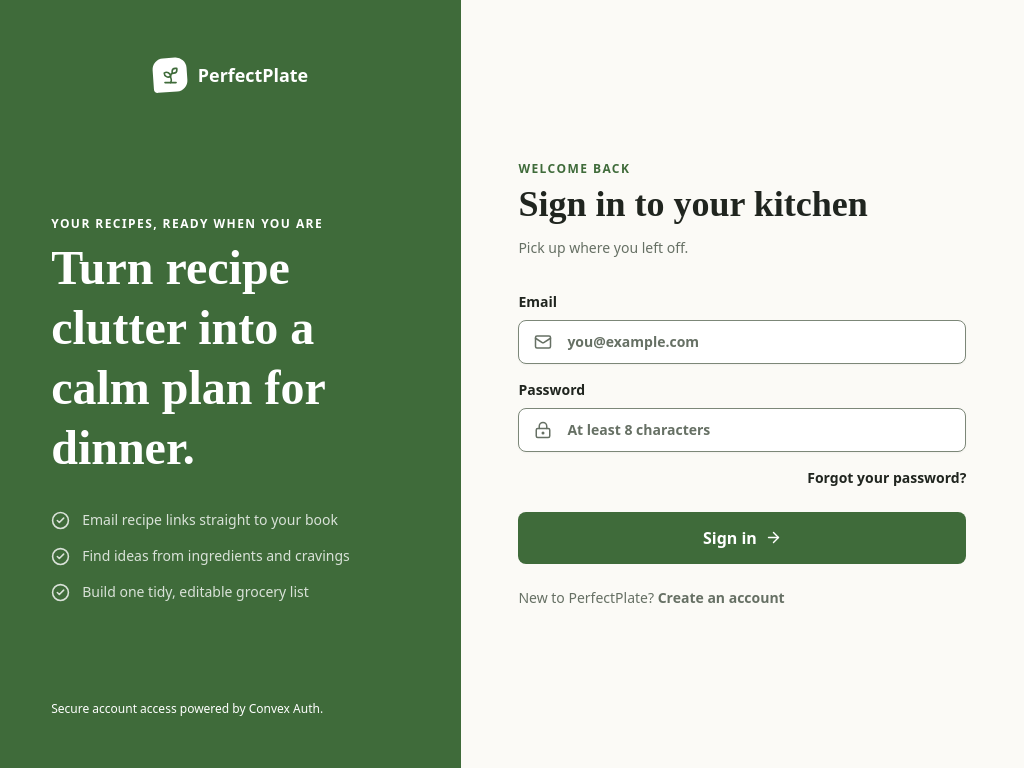
Test: AuthForm › shows a specific sign-in message for InvalidAccountId
This screenshot has width=1024, height=768.
Type "cook@example.com" into the field labelled "Email" at (742, 342), box [518,320,966,364]
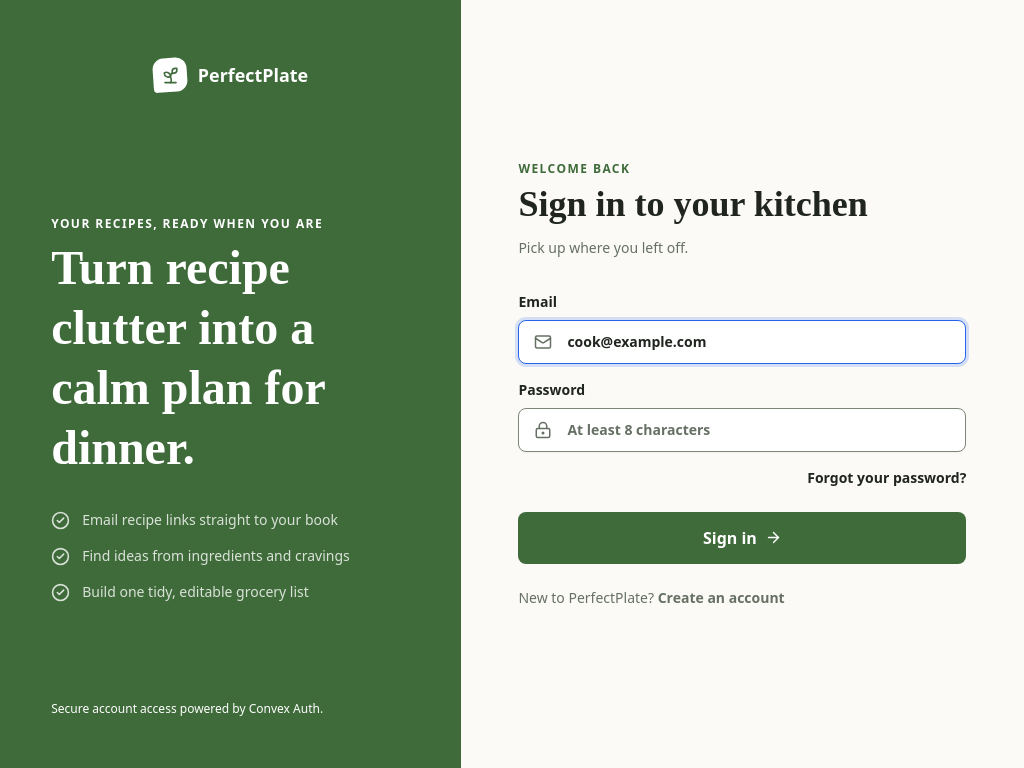
Type "password123" into the password field labelled "Password" at (742, 430), box [518,408,966,452]
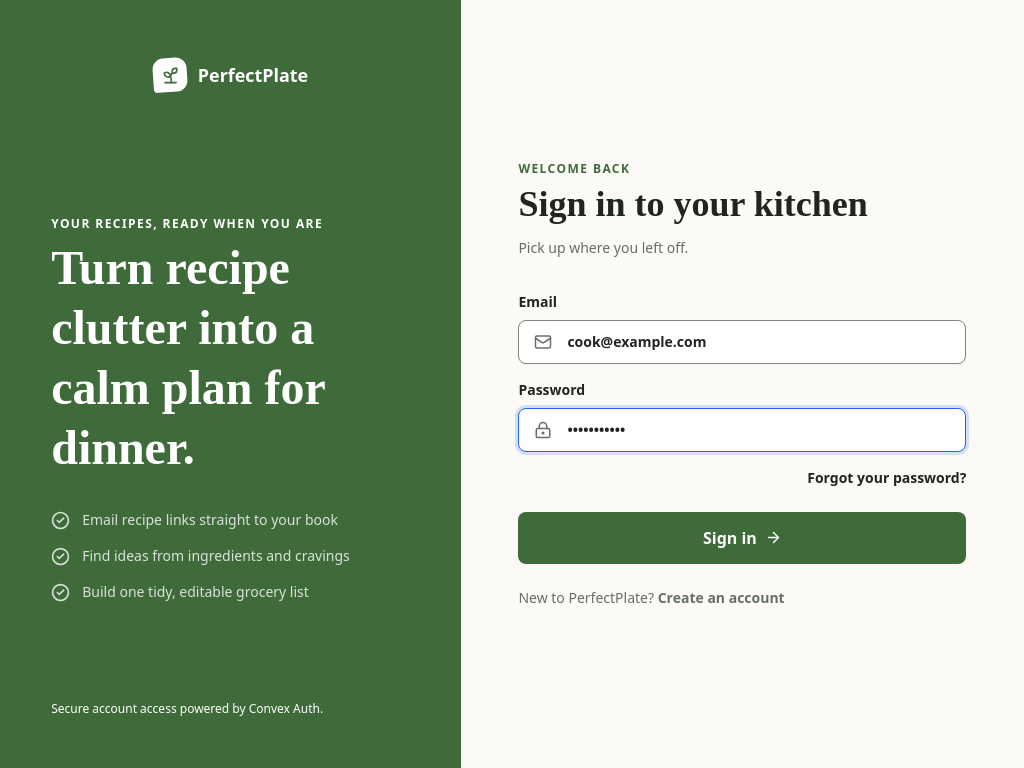
Click the button "Sign in" at (742, 538), box [518,512,966,564]
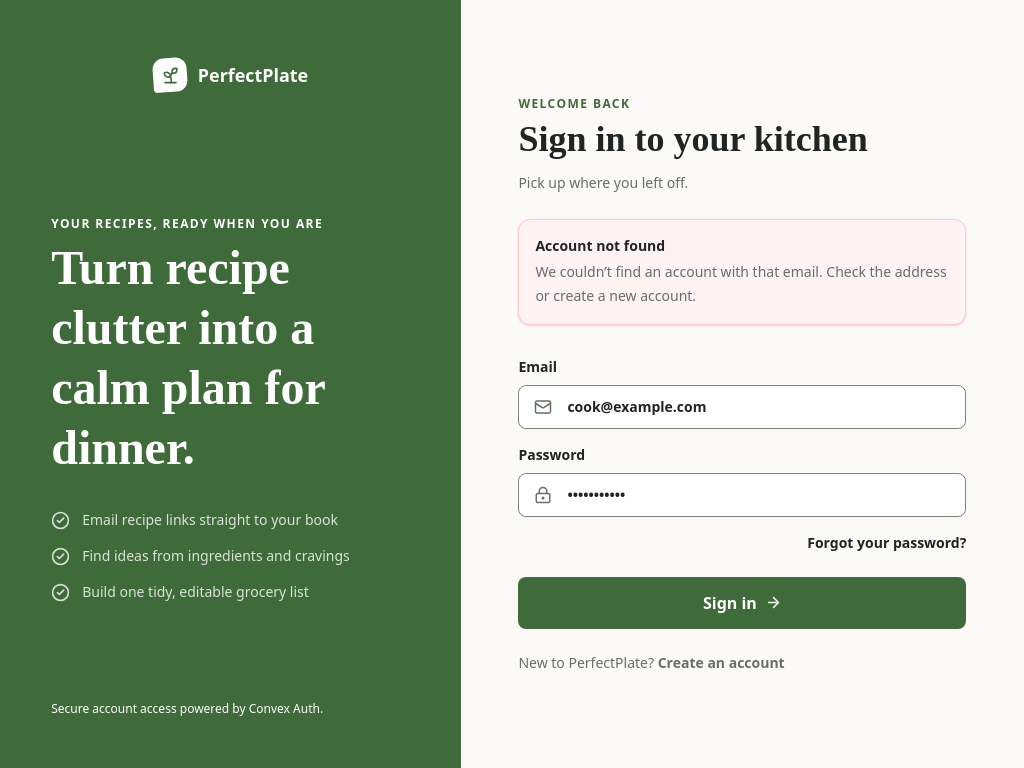
Now the message shows "Account not found", box [535,236,665,255]
Now the message shows "We couldn’t find an account with that email. Check the address or create a new account.", box [535,262,947,305]
